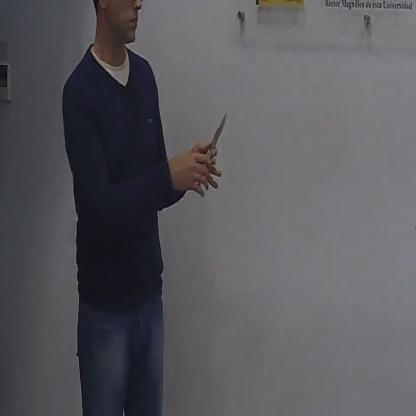knife: (197, 104, 230, 185)
